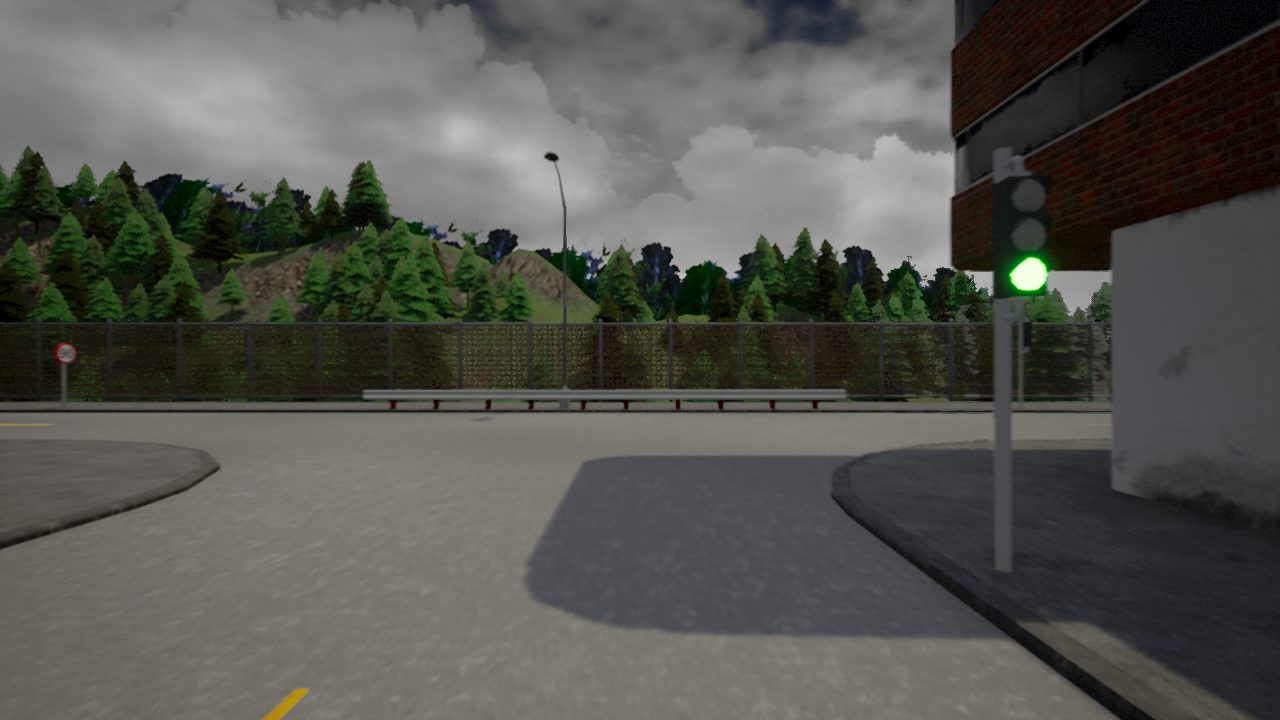green: (984, 164, 1050, 296)
